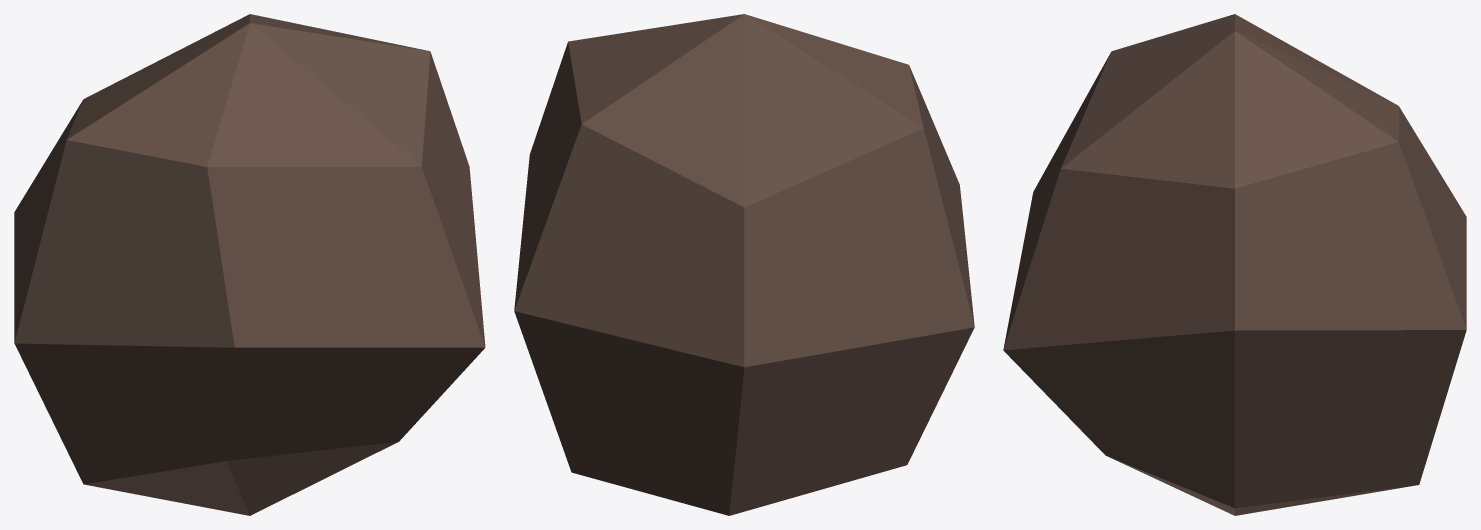
Rendered from SM_Ston.fbx.
3 views of the same model, side by side, from view 1: azimuth 30°, elevation 25°; view 2: azimuth 150°, elevation 25°; view 3: azimuth 270°, elevation 25° (orthographic). The views are drawn at different scales.
Parts seen in each view (by area): view 1: SM_Stone; view 2: SM_Stone; view 3: SM_Stone.
Boxes of the visible parts, <box> form: SM_Stone: <box>14,14,485,515</box>; SM_Stone: <box>514,14,974,515</box>; SM_Stone: <box>1003,14,1466,515</box>.
Size of the model in its own units: 1.93 by 2 by 1.73.
